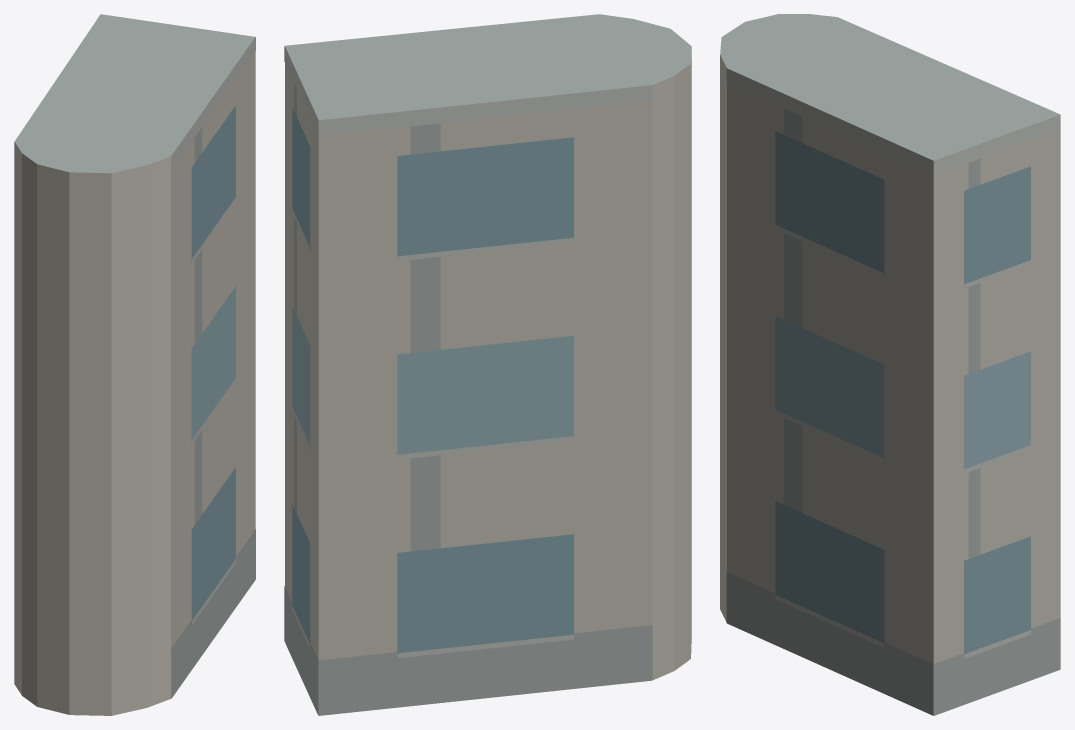
Rendered from survey-upis-33021528.glb.
3 renders of one model, left to right at view 1: azimuth 30°, elevation 25°; view 2: azimuth 150°, elevation 25°; view 3: azimuth 270°, elevation 25°, orthographic. The views are drawn at different scales.
Parts seen in each view (by area): view 1: survey-upis-33021528.tmp; view 2: survey-upis-33021528.tmp; view 3: survey-upis-33021528.tmp.
Part boxes in pixels (x1,y1,x2,y2): survey-upis-33021528.tmp: (14, 14, 255, 715); survey-upis-33021528.tmp: (284, 14, 691, 715); survey-upis-33021528.tmp: (720, 14, 1060, 715).
Size of the model in its own units: 5.2 by 9.15 by 5.09.
